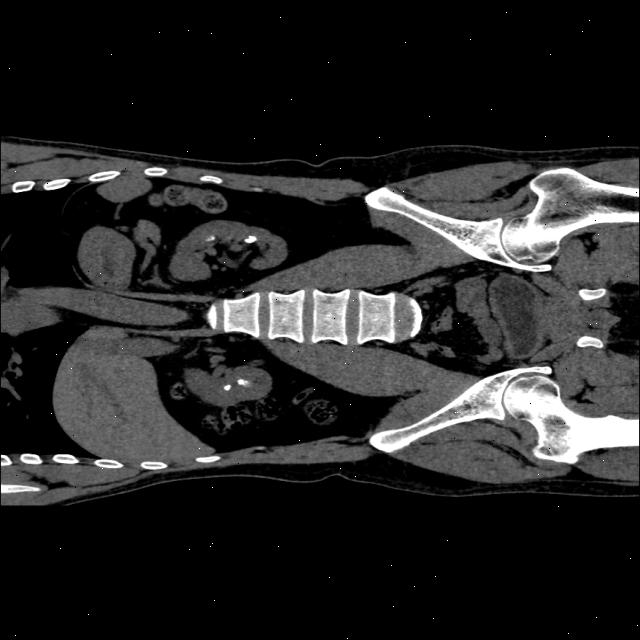kidneystone: (244, 235, 257, 242), (236, 378, 248, 385), (205, 234, 215, 241)
